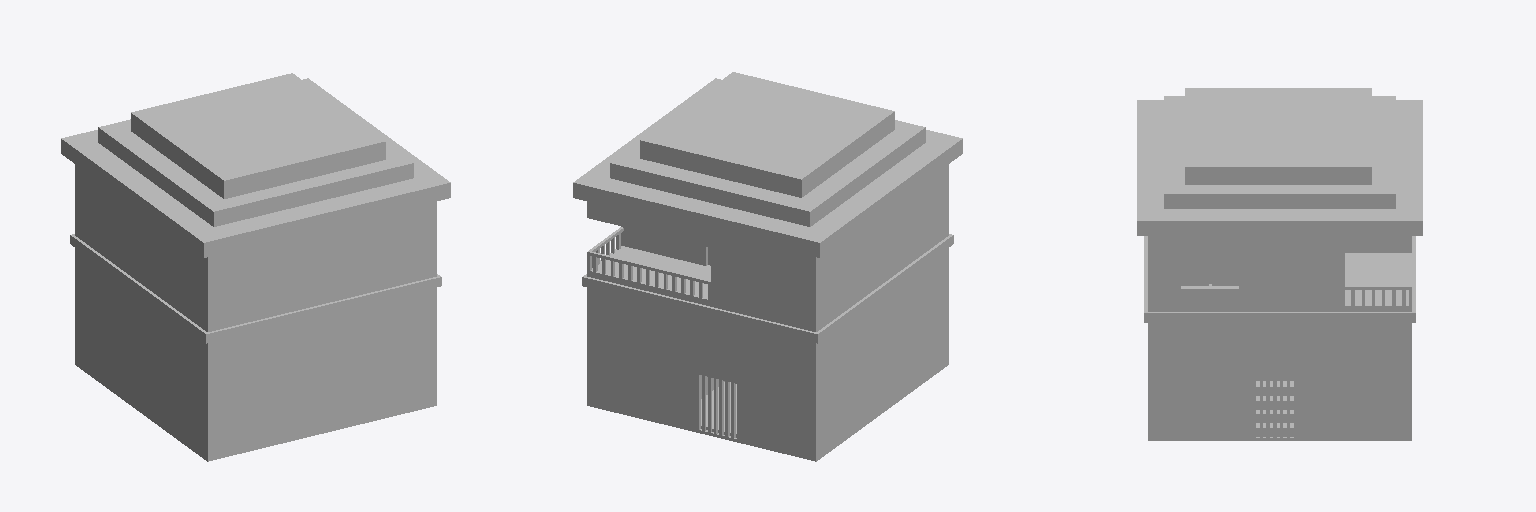
File: House2.obj
3 renders of one model, left to right at view 1: azimuth 30°, elevation 25°; view 2: azimuth 150°, elevation 25°; view 3: azimuth 270°, elevation 25°, orthographic.
Bounding box in the file's own units: 84 × 84 × 84.